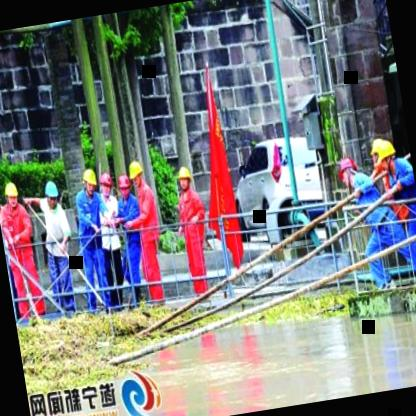helmet: (334, 154, 362, 190), (366, 133, 386, 170), (376, 138, 398, 171), (80, 164, 99, 196), (42, 178, 61, 208), (2, 178, 20, 209), (174, 163, 193, 192), (127, 159, 146, 188), (97, 169, 115, 199), (116, 170, 134, 198), (0, 183, 2, 214)
